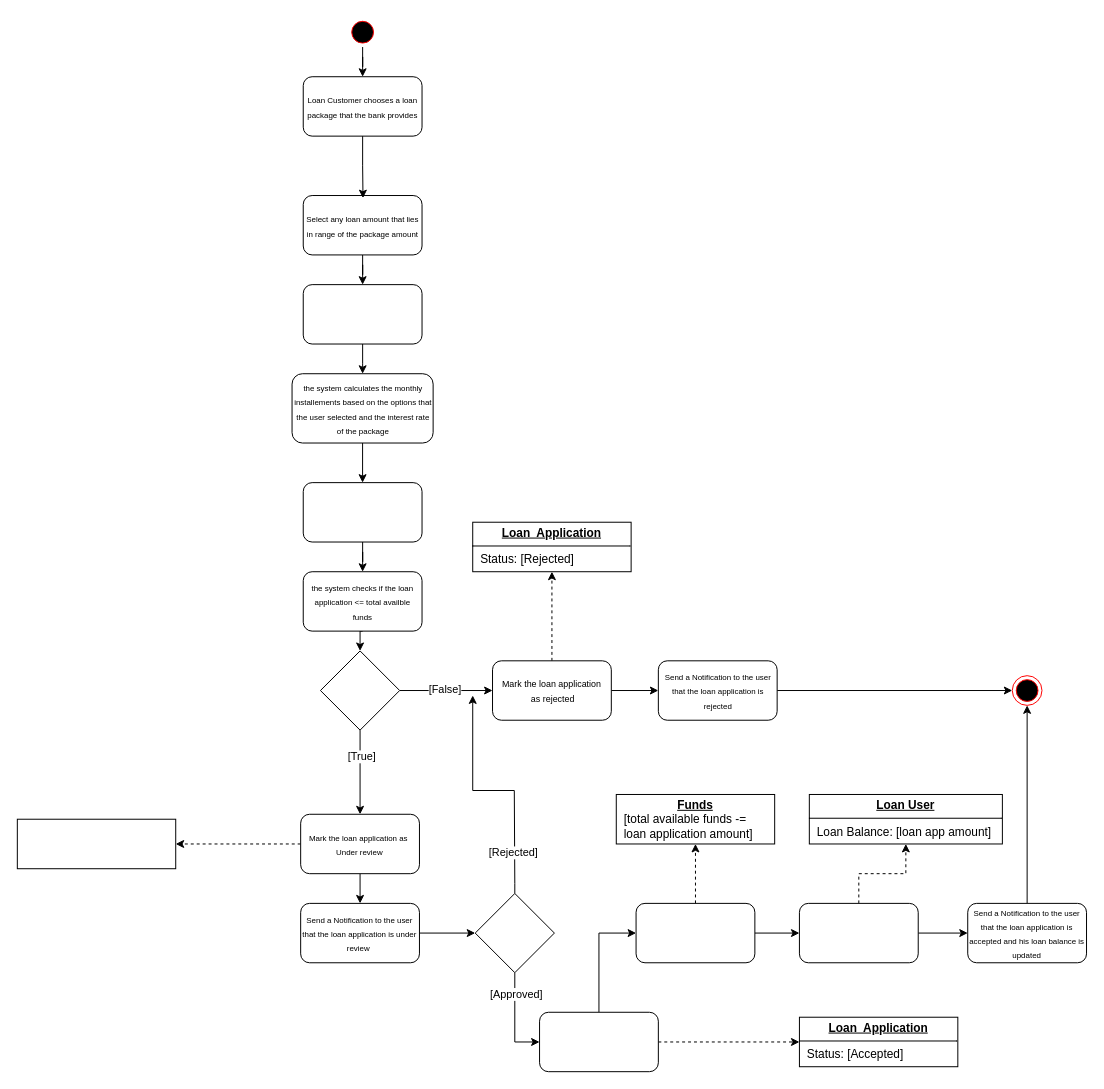
Image size: 1104x1089. Some labels were removed from this diagram. The shapes that lost their labels are listed below. From the top down, each one's centre as x and y in pixels, then its label:
At pixel 362 314: "Select the loan Term that lies in range of the package term".
At pixel 362 512: "The user reviews the loan application and submits the application".
At pixel 96 843: "Loan Application Status: [Pending Approval]".
At pixel 514 932: "Bank personnnel reviews the loan application".
At pixel 695 932: "Reduce the loan amount from the total_availble funds".
At pixel 858 932: "add the loan amount to the user's account's Loan Balance".
At pixel 598 1041: "Mark the loan application as accepted".
